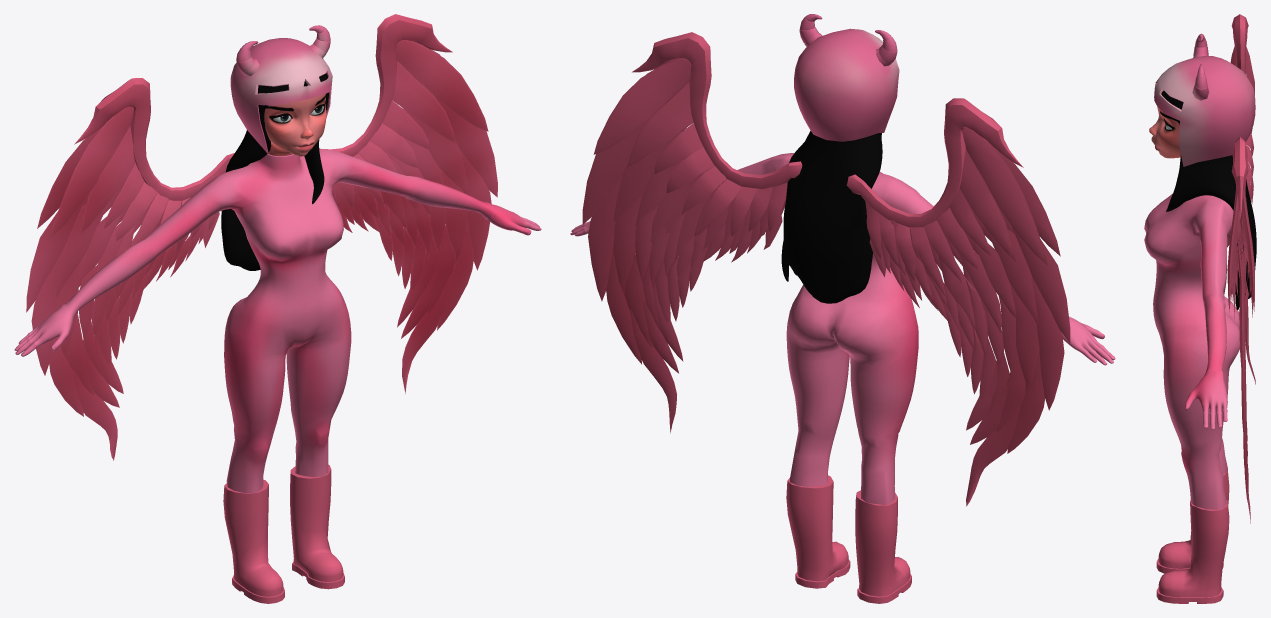
Rendered from Grace.glb.
3 views of the same model, side by side, from view 1: azimuth 30°, elevation 25°; view 2: azimuth 150°, elevation 25°; view 3: azimuth 270°, elevation 25° (orthographic). The views are drawn at different scales.
Parts seen in each view (by area): view 1: Grace; view 2: Grace; view 3: Grace.
Part boxes in pixels (x1,y1,x2,y2): Grace: (14,14,541,603); Grace: (570,14,1115,603); Grace: (1144,14,1256,603).
Size of the model in its own units: 0.3889 by 0.387 by 0.0743.
1 material, 1 textured.
